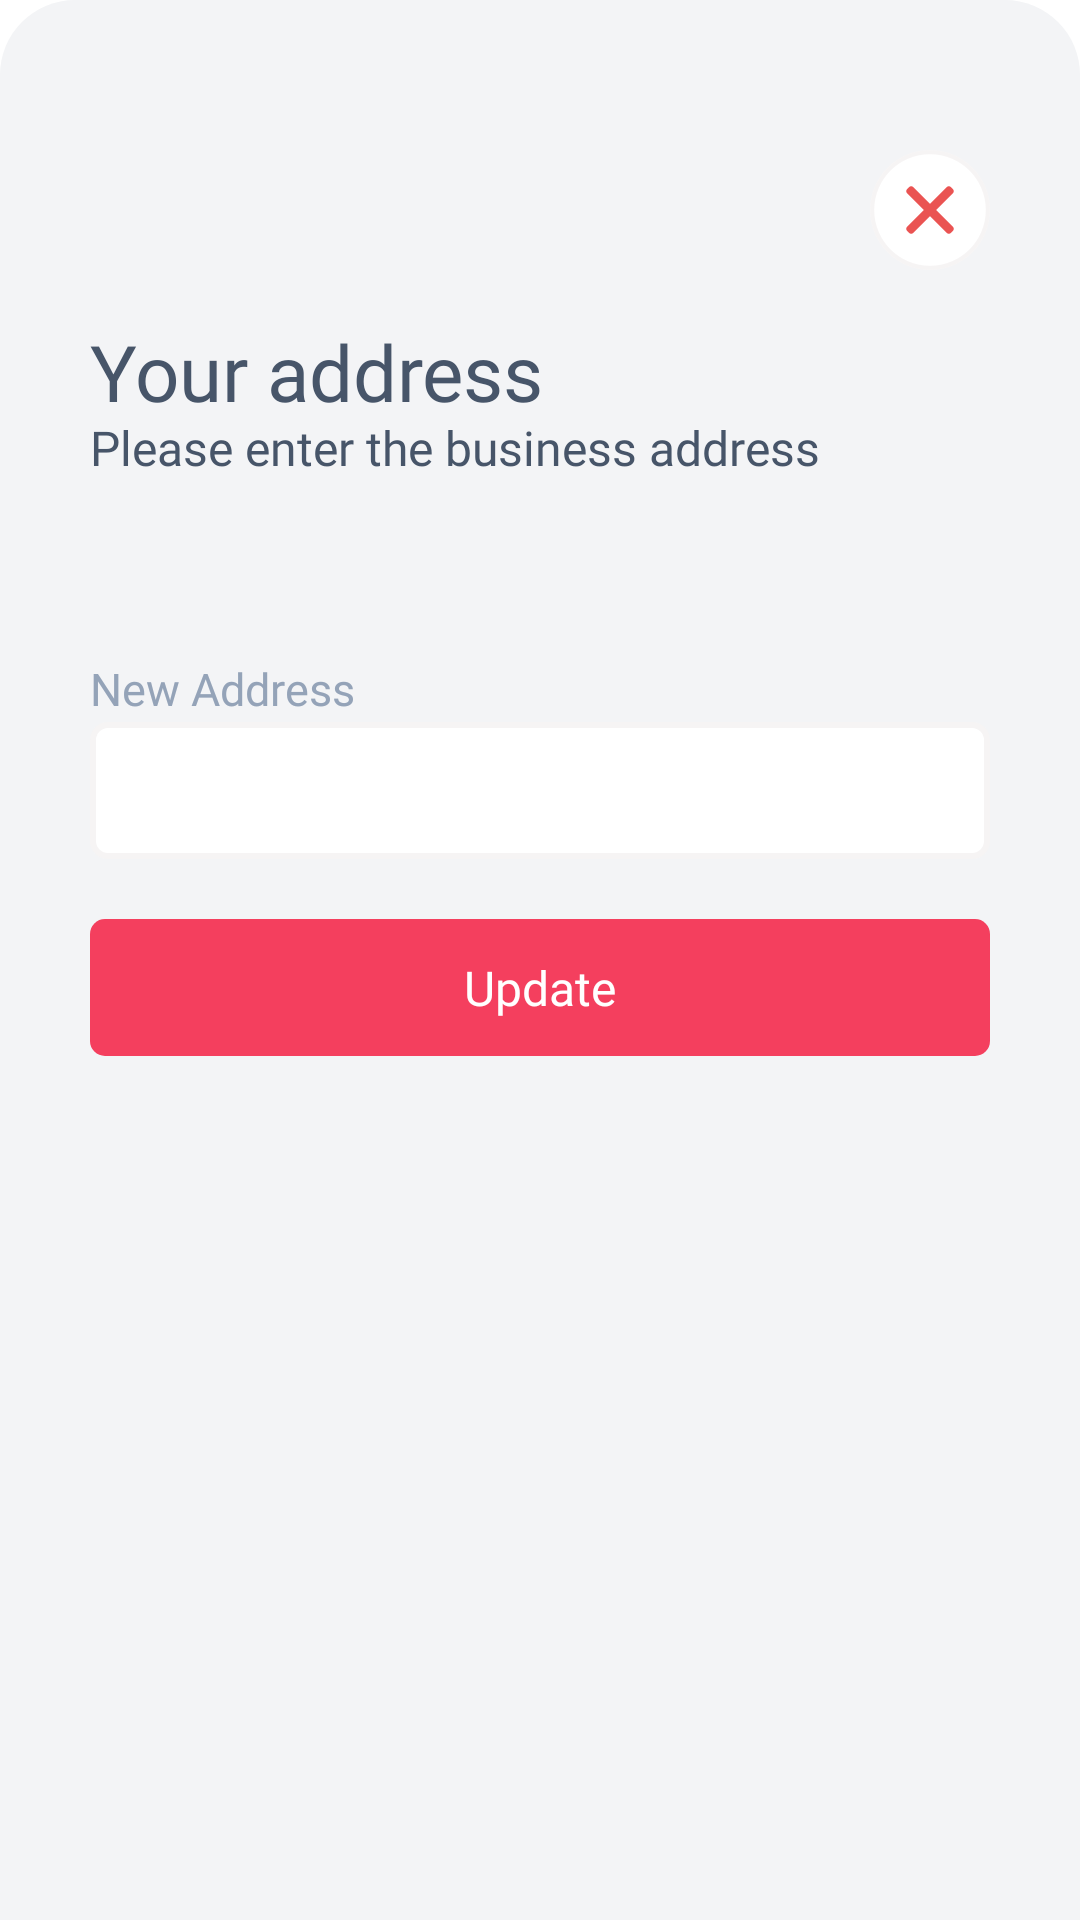

Icon bounding boxes for this 1080 x 1920 phone screenshot, format bbox=[x1, y1, x2, y2]:
close: bbox=[874, 154, 986, 266]
